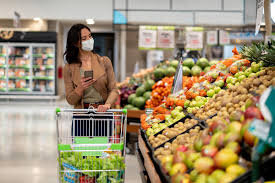with_basket: (55, 104, 128, 183)
with_mask: (69, 23, 95, 53)
